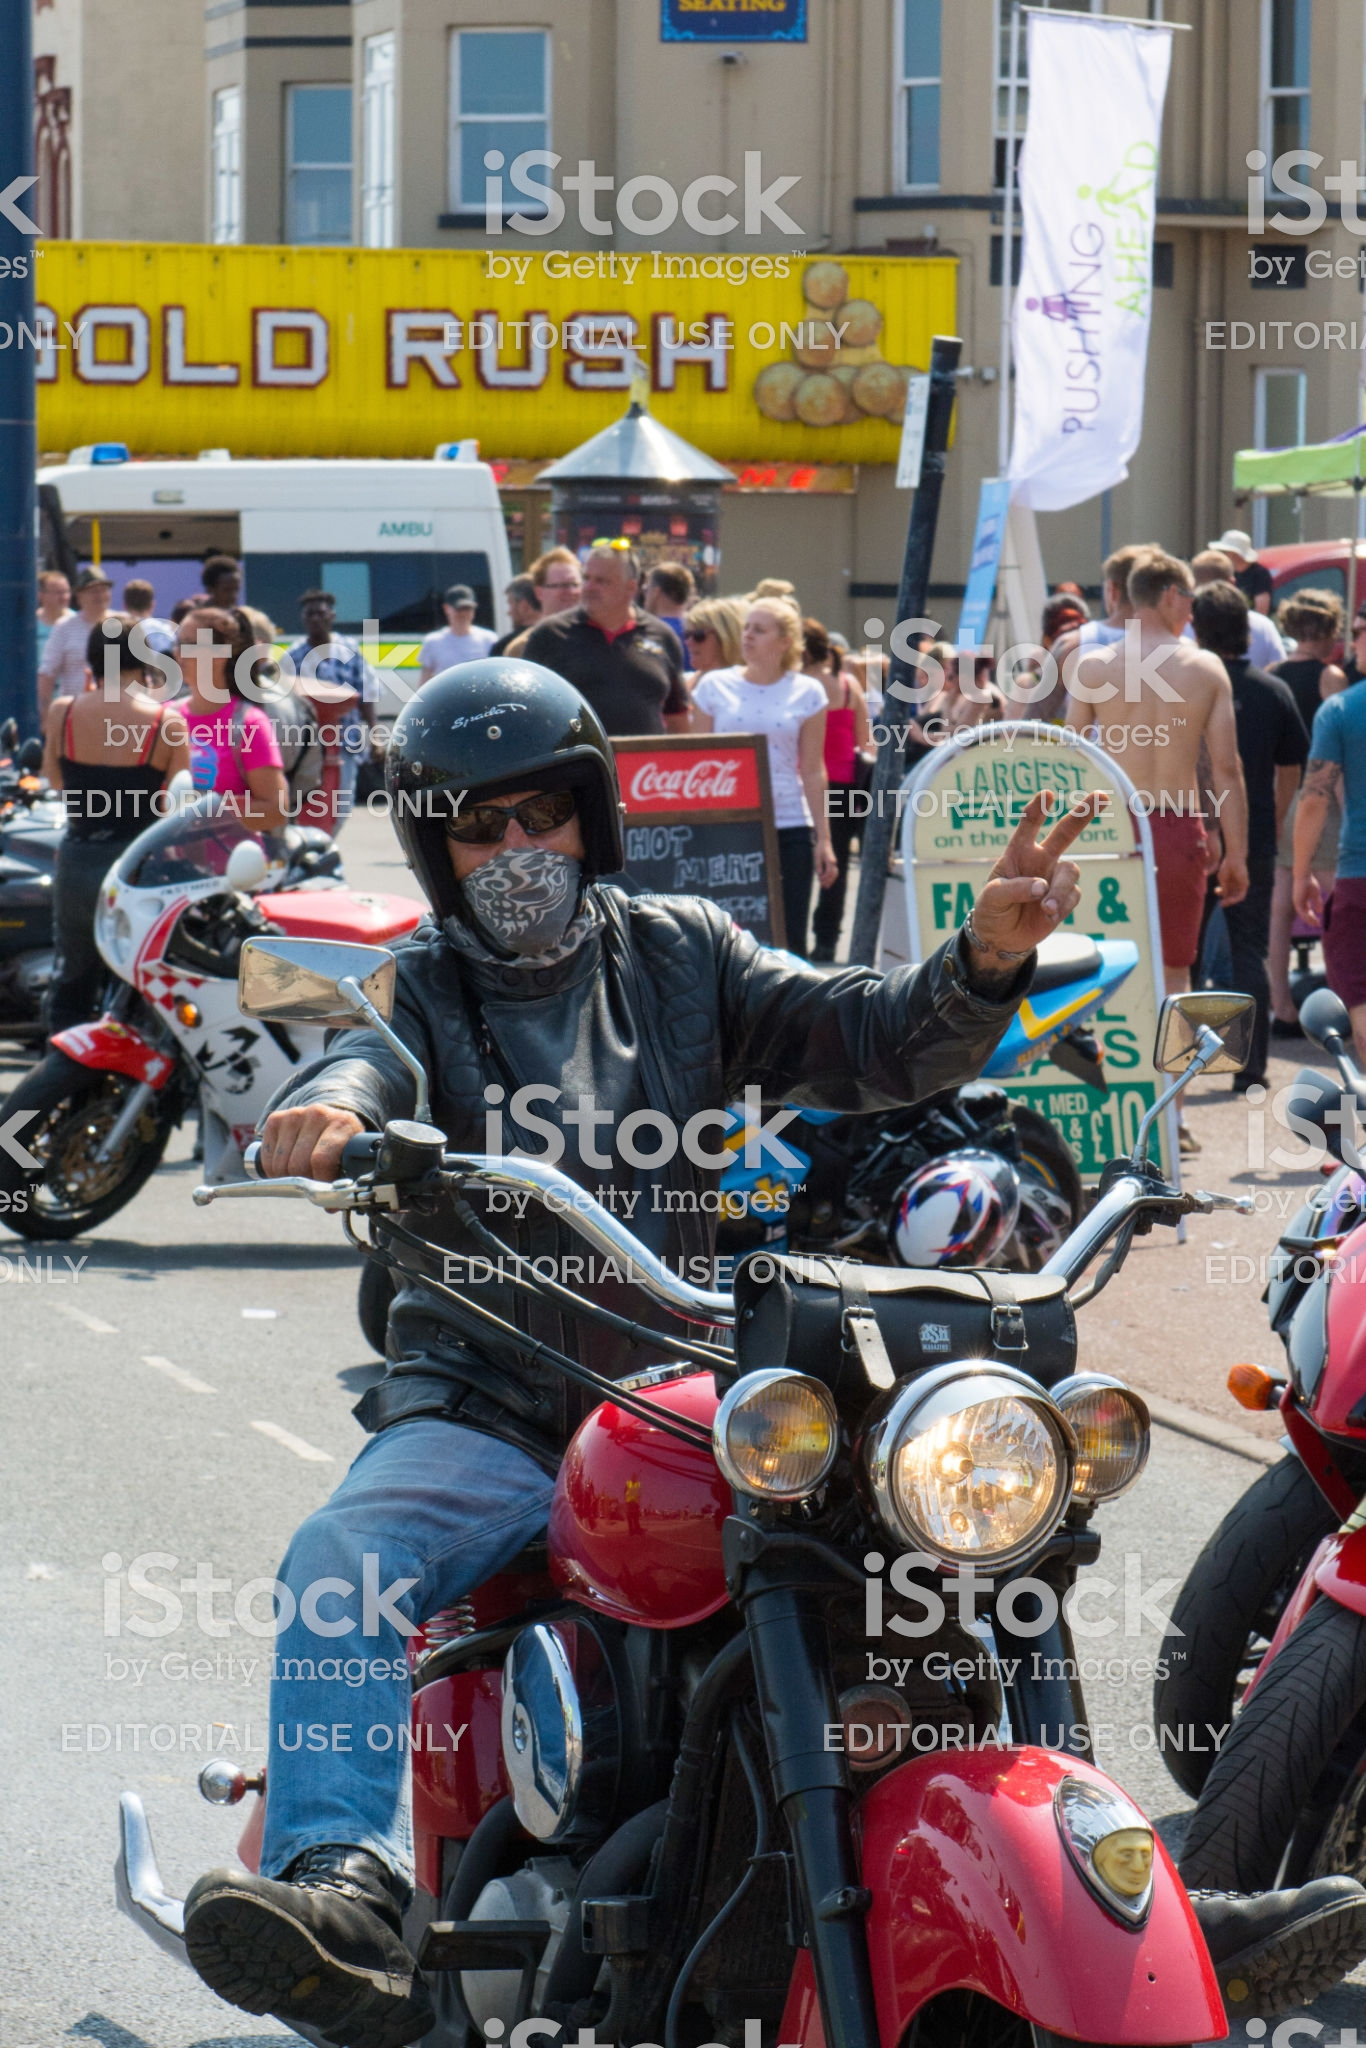helmet: (338, 622, 617, 904)
